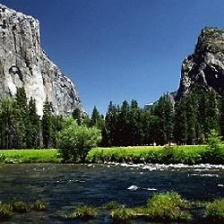neutral: (2, 2, 223, 221)
